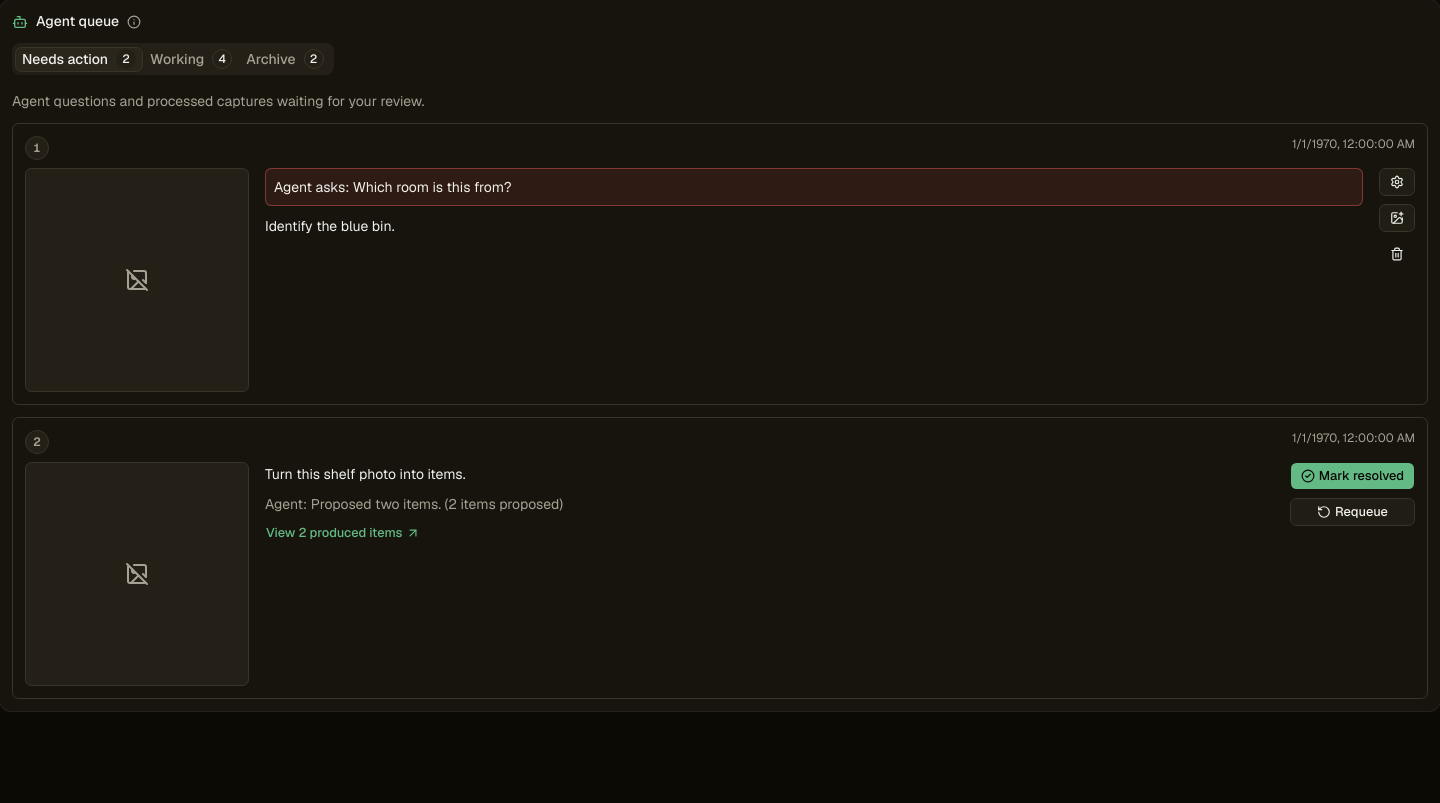
IngestionQueueList tabs view › surfaces upload status badges in the Working tab
Click the tab "Working 4" at coordinates (191, 59), box 143,47 -> 239,72
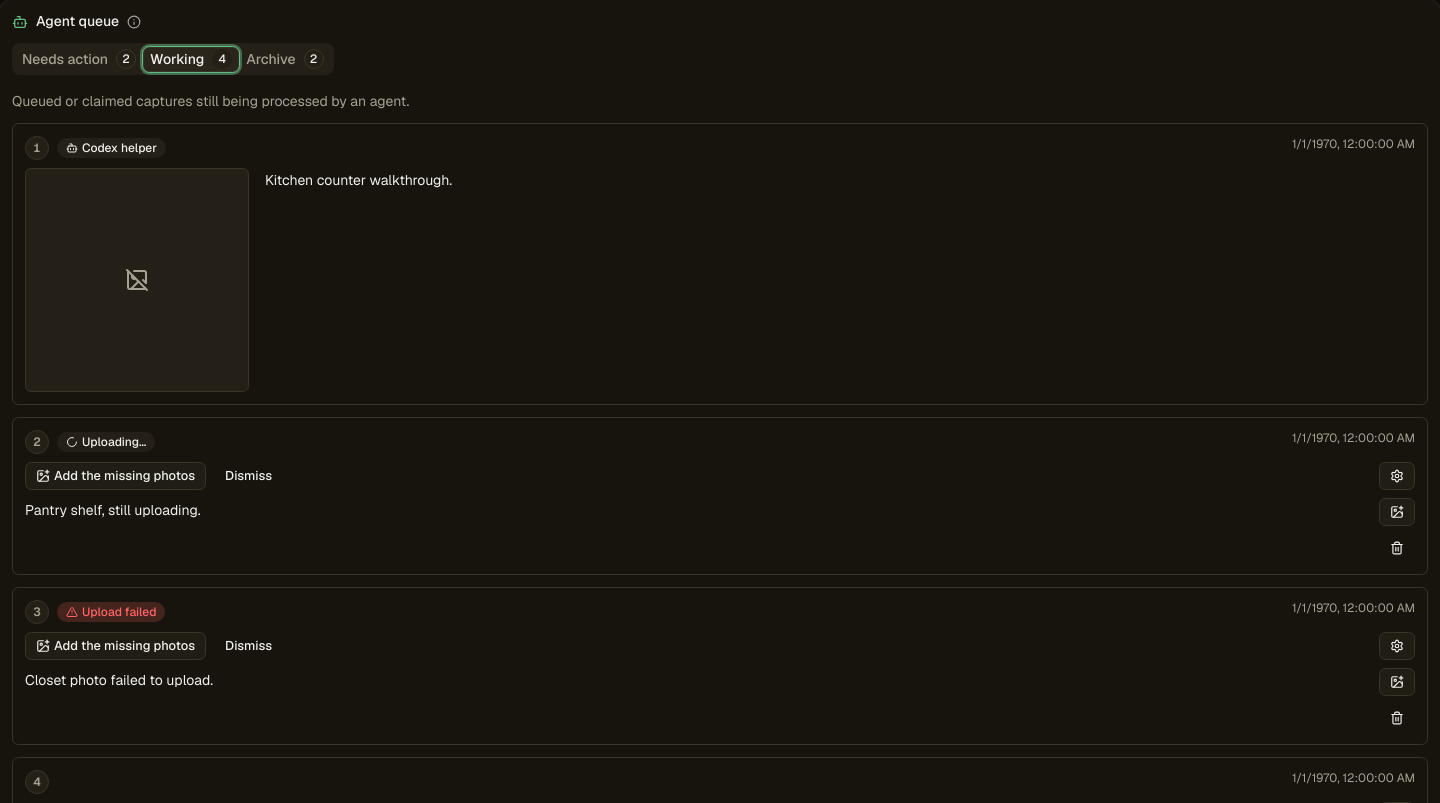
Expected: the text "Uploading…" is shown, 57,432 -> 155,452
Expected: the element labelled "Upload failed" is shown, 57,602 -> 166,622
